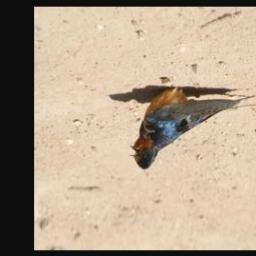Swallow: (130, 89, 255, 171)
